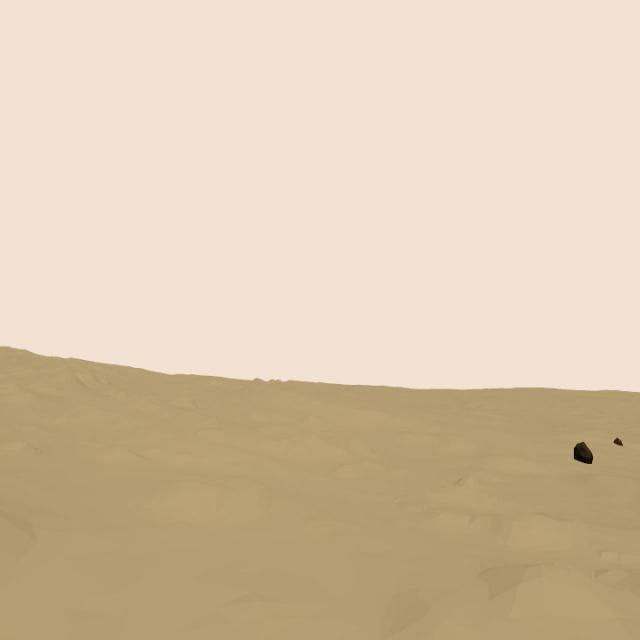rock: (574, 439, 593, 465), (613, 436, 622, 446)
